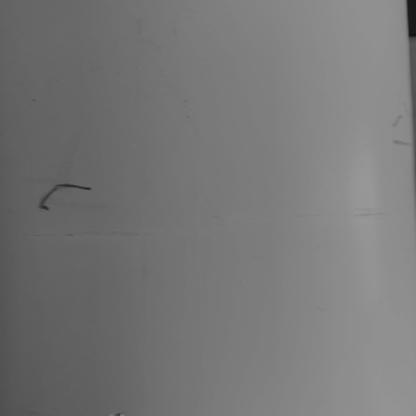fengxi: (38, 180, 102, 211)
